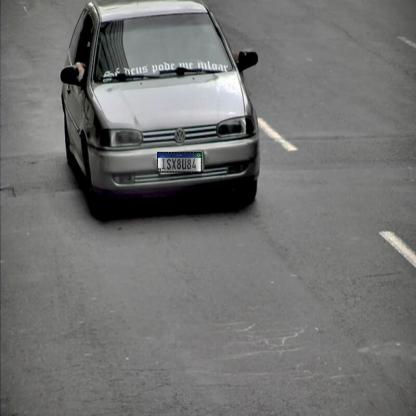PlacaM: (157, 152, 202, 172)
